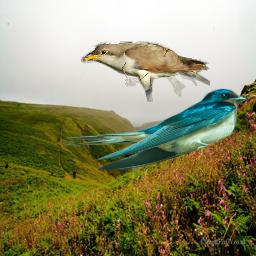Cuckoo: (81, 41, 210, 102)
Swallow: (61, 88, 247, 172)
